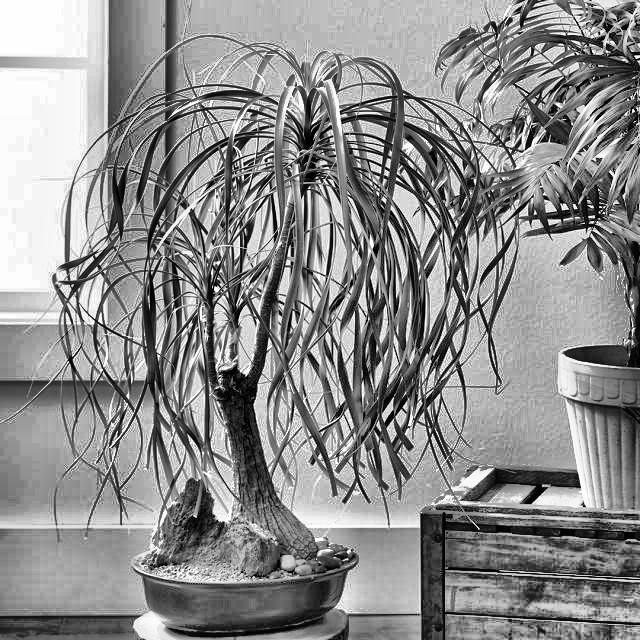plants: (50, 52, 444, 618), (453, 6, 639, 508)
